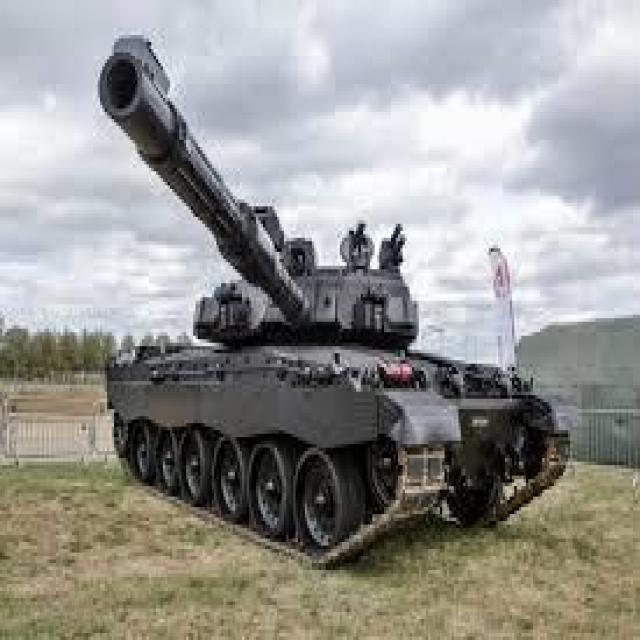Tanks: (80, 33, 567, 572)
